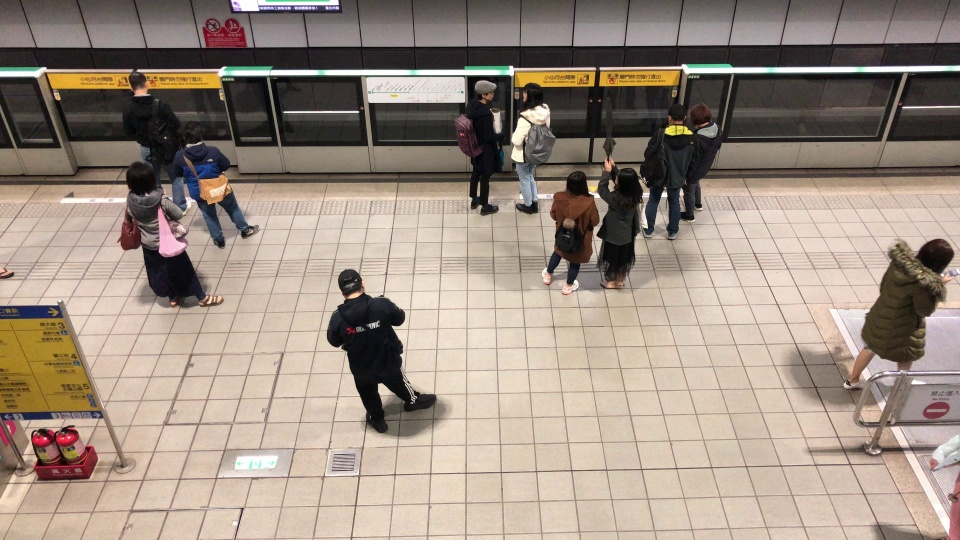person_head: (915, 237, 956, 277), (123, 159, 158, 196), (336, 268, 365, 299), (472, 78, 498, 103), (564, 170, 589, 196), (689, 101, 714, 127), (614, 167, 638, 190), (127, 70, 149, 95), (183, 119, 204, 145), (666, 102, 687, 126), (522, 81, 542, 104)
person_vbox: (325, 267, 437, 433), (842, 237, 960, 390), (115, 160, 224, 308), (591, 90, 649, 290), (169, 120, 260, 246), (120, 71, 191, 217), (639, 102, 701, 240), (539, 169, 599, 295), (453, 78, 505, 215), (509, 80, 557, 215), (678, 99, 723, 222)
